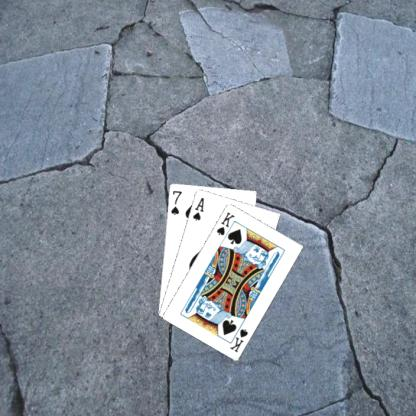7S: (168, 188, 182, 216)
AS: (190, 194, 205, 222)
KS: (227, 321, 249, 353), (214, 209, 236, 236)
